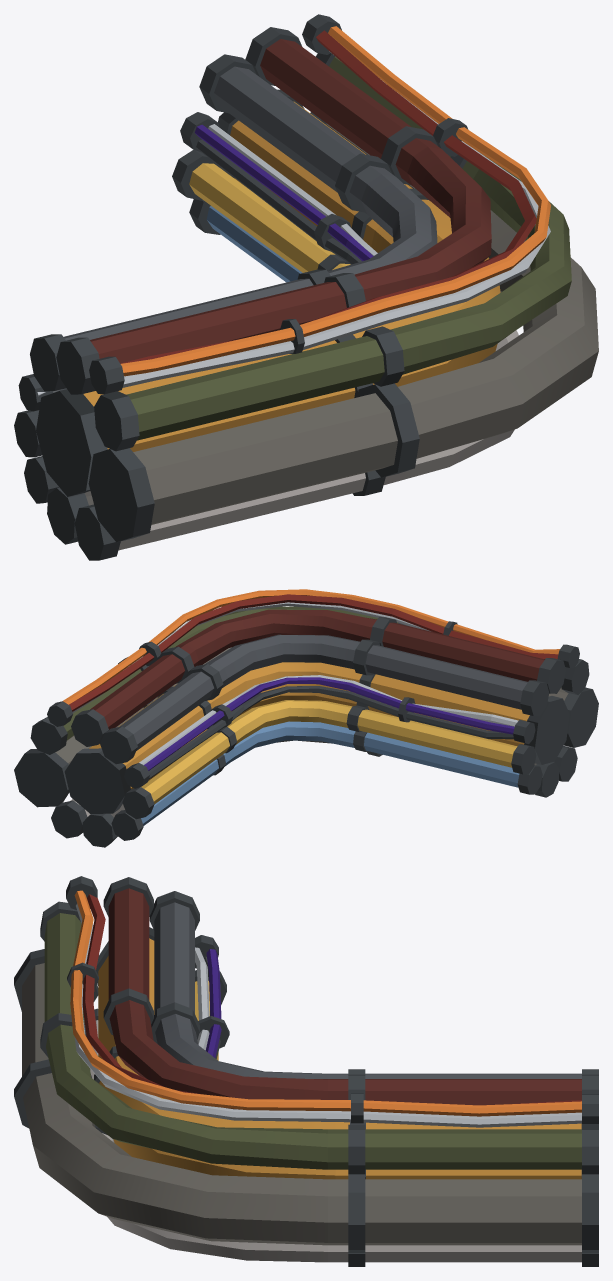
File: SM_Bld_Pipe_Large_Group_Turn_02.fbx
3 views of the same model, one above another, from view 1: azimuth 30°, elevation 25°; view 2: azimuth 150°, elevation 25°; view 3: azimuth 270°, elevation 25° (orthographic). The views are drawn at different scales.
Parts seen in each view (by area): view 1: SM_Bld_Pipe_Large_Group_Turn_02; view 2: SM_Bld_Pipe_Large_Group_Turn_02; view 3: SM_Bld_Pipe_Large_Group_Turn_02.
Boxes of the visible parts, x1,y1,x2,y2 form: SM_Bld_Pipe_Large_Group_Turn_02: (14,14,598,560); SM_Bld_Pipe_Large_Group_Turn_02: (14,589,598,847); SM_Bld_Pipe_Large_Group_Turn_02: (14,876,598,1266).
Bounding box in the file's own units: 305 × 103 × 305.
